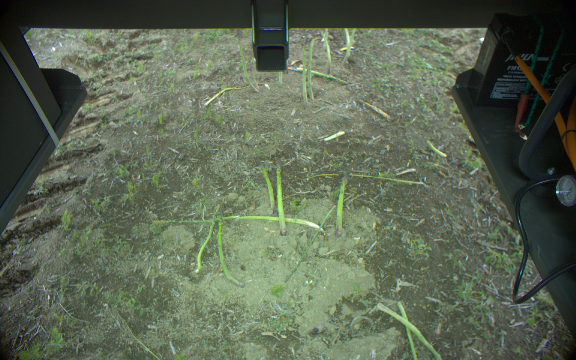aspa: (377, 304, 439, 360), (184, 209, 217, 278), (216, 209, 244, 290), (230, 33, 258, 93), (274, 157, 289, 238), (397, 300, 416, 360), (255, 157, 276, 211), (330, 170, 347, 236), (317, 27, 336, 86), (305, 31, 319, 103), (294, 42, 307, 105), (342, 27, 359, 66), (341, 27, 349, 46)
